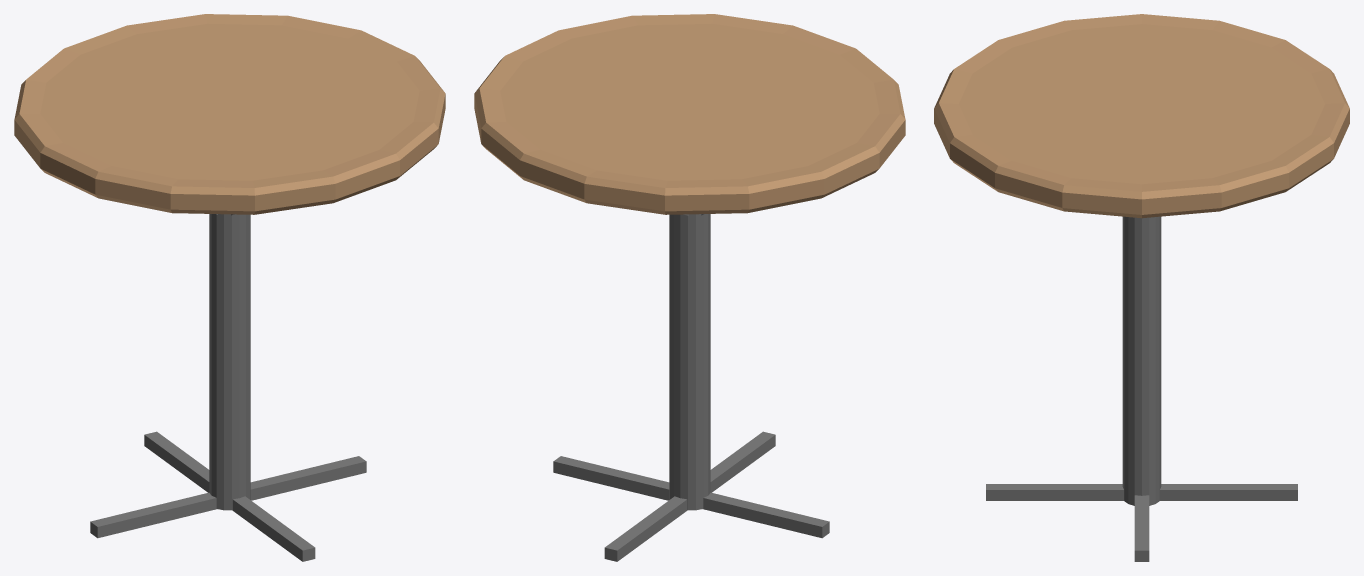
Rendered from ModernTable.fbx.
The picture shows the model from 3 angles, left to right: view 1: azimuth 30°, elevation 25°; view 2: azimuth 150°, elevation 25°; view 3: azimuth 270°, elevation 25°; orthographic projection.
Parts seen in each view (by area): view 1: ModernTable; view 2: ModernTable; view 3: ModernTable.
Boxes of the visible parts, x1,y1,x2,y2 form: ModernTable: (14, 14, 445, 561); ModernTable: (474, 14, 905, 561); ModernTable: (934, 14, 1349, 561).
Bounding box in the file's own units: 194 × 196 × 187.
